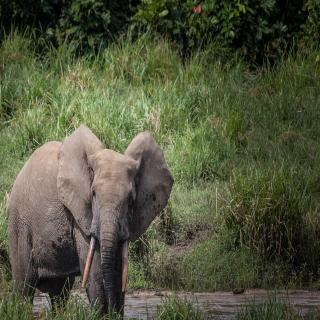Elephant: (3, 121, 180, 320)
